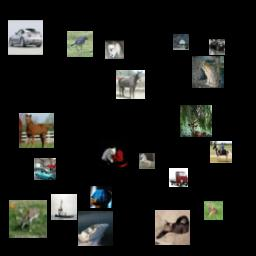automobile: (8, 20, 43, 55), (34, 158, 56, 180), (209, 39, 225, 55)
bird: (67, 31, 93, 57), (90, 186, 112, 208)
cat: (155, 210, 190, 245), (99, 139, 128, 168)
deer: (9, 200, 47, 238), (180, 105, 212, 137), (204, 201, 223, 220)
dog: (105, 40, 124, 59)
frog: (192, 56, 224, 88)
ship: (78, 211, 113, 246), (51, 194, 77, 220), (173, 34, 189, 50)
truck: (169, 168, 188, 187)
